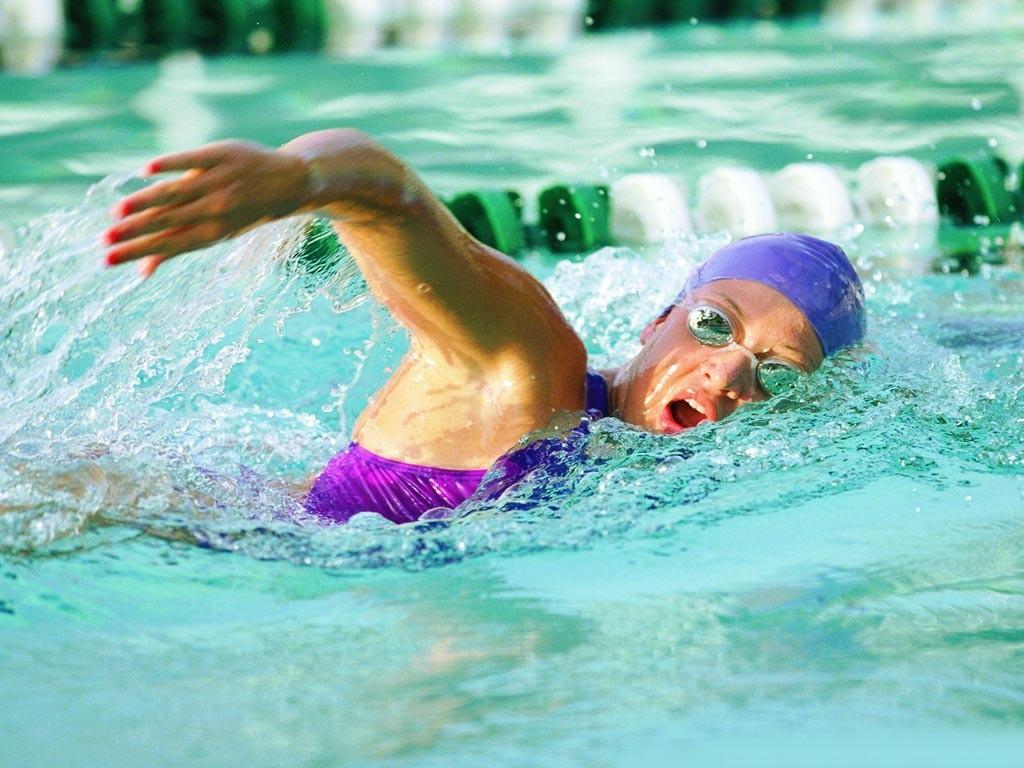face: (654, 286, 814, 446)
